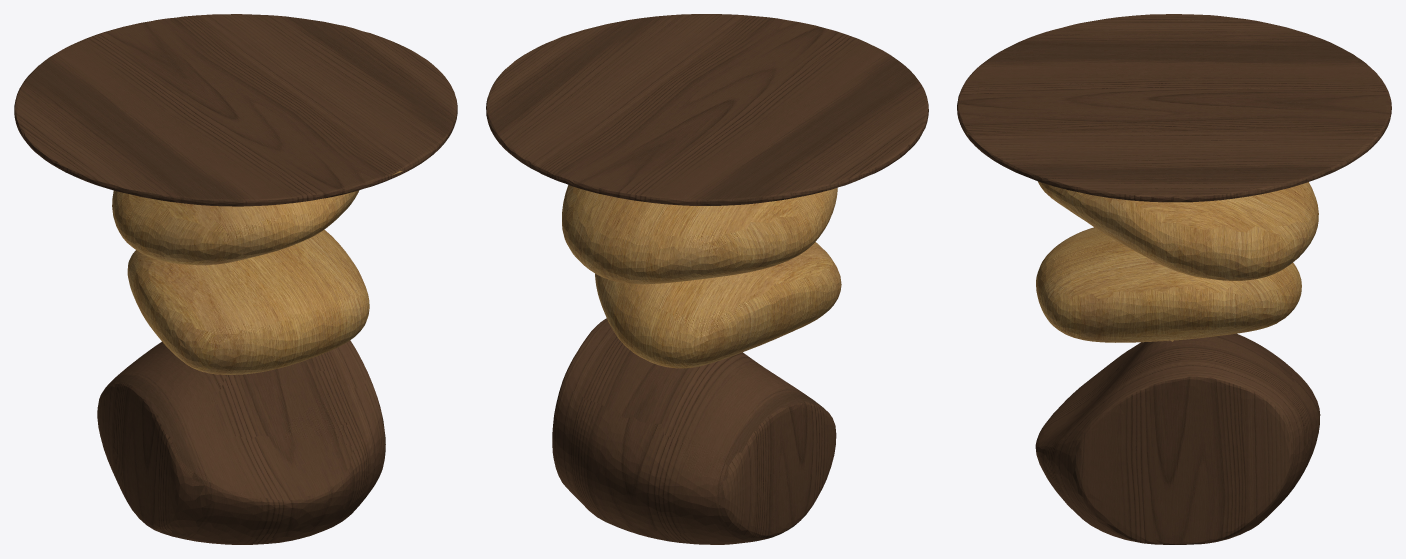
Rendered from WalnutSideCoffeTable.glb.
3 renders of one model, left to right at view 1: azimuth 30°, elevation 25°; view 2: azimuth 150°, elevation 25°; view 3: azimuth 270°, elevation 25°, orthographic. The views are drawn at different scales.
Parts seen in each view (by area): view 1: world; view 2: world; view 3: world.
Boxes of the visible parts, x1,y1,x2,y2 form: world: (14,14,457,544); world: (486,14,928,544); world: (957,14,1391,544).
Size of the model in its own units: 1 by 0.9958 by 1.
2 materials, 2 textured.
